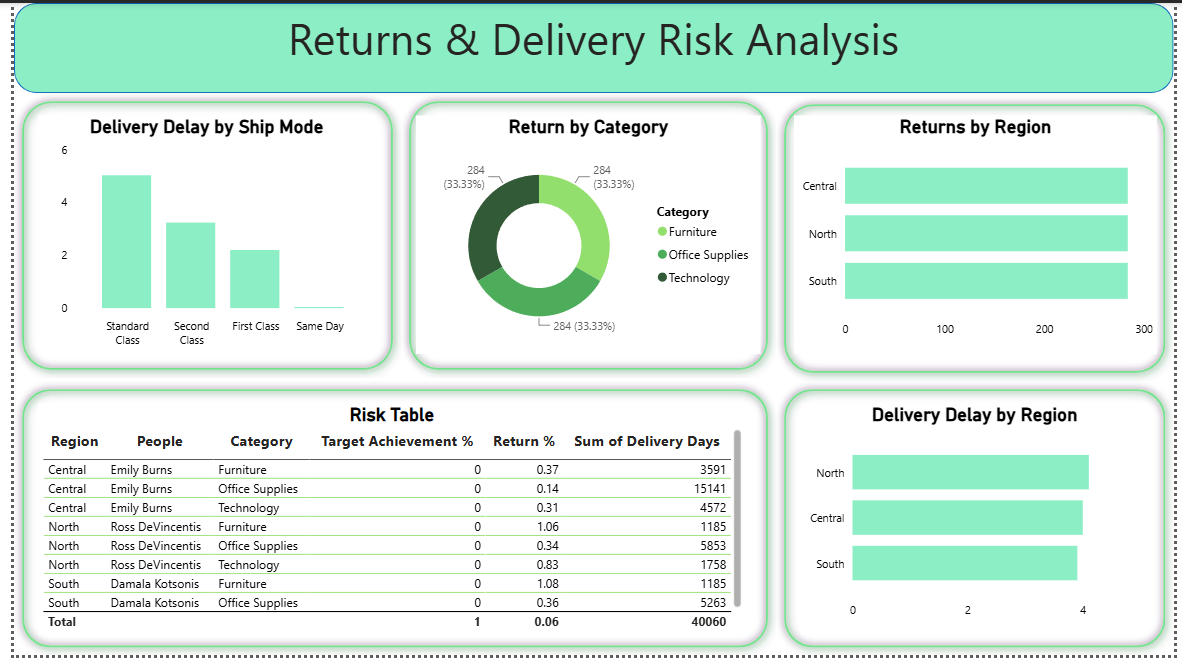

Layout of this report page (visuals, bound fields, positions):
{"tool":"powerbi","page":{"name":"Returns & Delivery Risk Anal","canvas":[1280,720],"ordinal":2},"visuals":[{"type":"shape","box":[0,0,1280.5,99.4],"z":0},{"type":"textbox","box":[0,0,1280.5,99.4],"z":1000},{"type":"shape","box":[841.5,102.7,439,314.7],"z":2000},{"type":"clusteredBarChart","title":"Returns by Region","fields":{"Category":["People.Region"],"Y":["final_dataset.Returned Orders"]},"box":[861.4,124.2,400.9,263.4],"z":3000},{"type":"shape","box":[427.4,99.4,414.1,314.7],"z":4000},{"type":"shape","box":[0,99.4,427.4,314.7],"z":5000},{"type":"donutChart","title":"Return by Category","fields":{"Category":["final_dataset.Category"],"Y":["final_dataset.Returned Orders"]},"box":[443.9,124.2,381,263.4],"z":6000},{"type":"clusteredColumnChart","title":"Delivery Delay by Ship Mode","fields":{"Category":["final_dataset.Ship Mode"],"Y":["Avg(final_dataset.Delivery Days)"]},"box":[26.5,124.2,372.7,263.4],"z":7000},{"type":"shape","box":[841.5,417.4,439,303.1],"z":8000},{"type":"shape","box":[0,417.4,841.5,303.1],"z":9000},{"type":"clusteredBarChart","title":"Delivery Delay by Region","fields":{"Category":["final_dataset.Region"],"Y":["Avg(final_dataset.Delivery Days)"]},"box":[869.7,442.3,382.6,255.1],"z":10000},{"type":"tableEx","title":"Risk Table","fields":{"Values":["People.Region","People.People","final_dataset.Category","Target.Target Achievement %","final_dataset.Return %","Sum(final_dataset.Delivery Days)"]},"box":[26.5,442.3,781.9,255.1],"z":11000}]}

Visuals, with their boxes in screenshot pixels (x1, y1, x2, y2), scaled from the page's 1280x720 canvas onto the 1182x658 screenshot:
shape: bbox(0, 0, 1181, 91)
textbox: bbox(0, 0, 1181, 91)
shape: bbox(777, 94, 1181, 381)
"Returns by Region" clusteredBarChart: bbox(795, 114, 1166, 354)
shape: bbox(395, 91, 777, 378)
shape: bbox(0, 91, 395, 378)
"Return by Category" donutChart: bbox(410, 114, 762, 354)
"Delivery Delay by Ship Mode" clusteredColumnChart: bbox(24, 114, 369, 354)
shape: bbox(777, 381, 1181, 657)
shape: bbox(0, 381, 777, 657)
"Delivery Delay by Region" clusteredBarChart: bbox(803, 404, 1156, 637)
"Risk Table" tableEx: bbox(24, 404, 747, 637)
